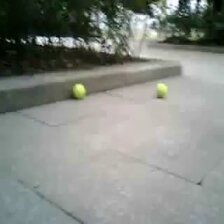tennis: (71, 84, 86, 98), (154, 83, 167, 97)
